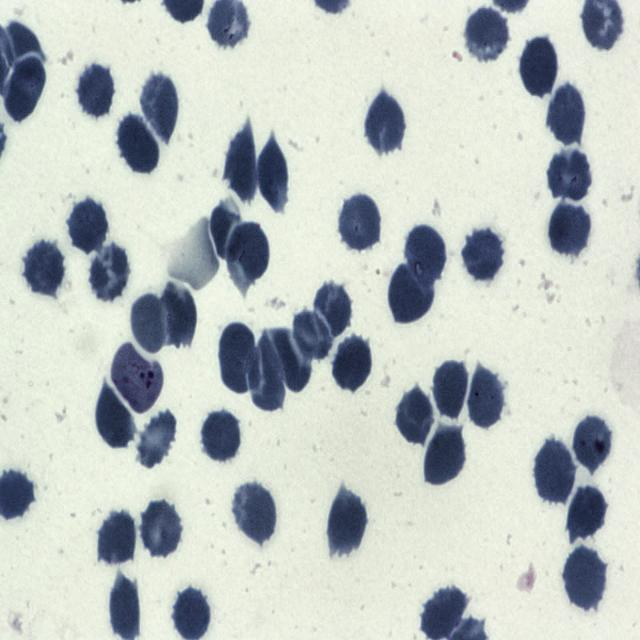red blood cell: (246, 329, 286, 411), (268, 327, 312, 394), (94, 380, 136, 450), (388, 262, 436, 323), (140, 71, 181, 142), (562, 546, 608, 609), (226, 220, 271, 284), (232, 480, 278, 542), (327, 488, 368, 557), (6, 55, 47, 124), (534, 438, 576, 504), (364, 90, 406, 156), (128, 290, 170, 356), (337, 192, 382, 252), (404, 224, 448, 285), (546, 82, 586, 149), (140, 497, 183, 559), (218, 322, 255, 394), (86, 243, 130, 303), (547, 147, 593, 204), (571, 414, 613, 476), (116, 115, 160, 174), (160, 282, 197, 351), (564, 485, 608, 542), (466, 6, 510, 63), (225, 126, 257, 204), (257, 134, 288, 214), (425, 424, 467, 483), (394, 387, 436, 446), (548, 203, 592, 259), (136, 408, 177, 468), (520, 34, 558, 98), (313, 280, 354, 339), (467, 366, 505, 429), (432, 358, 470, 420), (23, 239, 65, 295), (210, 201, 246, 265), (96, 509, 136, 566), (292, 307, 332, 363), (333, 334, 372, 391), (77, 62, 116, 118), (200, 410, 242, 462), (462, 228, 504, 280), (68, 198, 107, 252)
ring: (111, 340, 162, 414)
